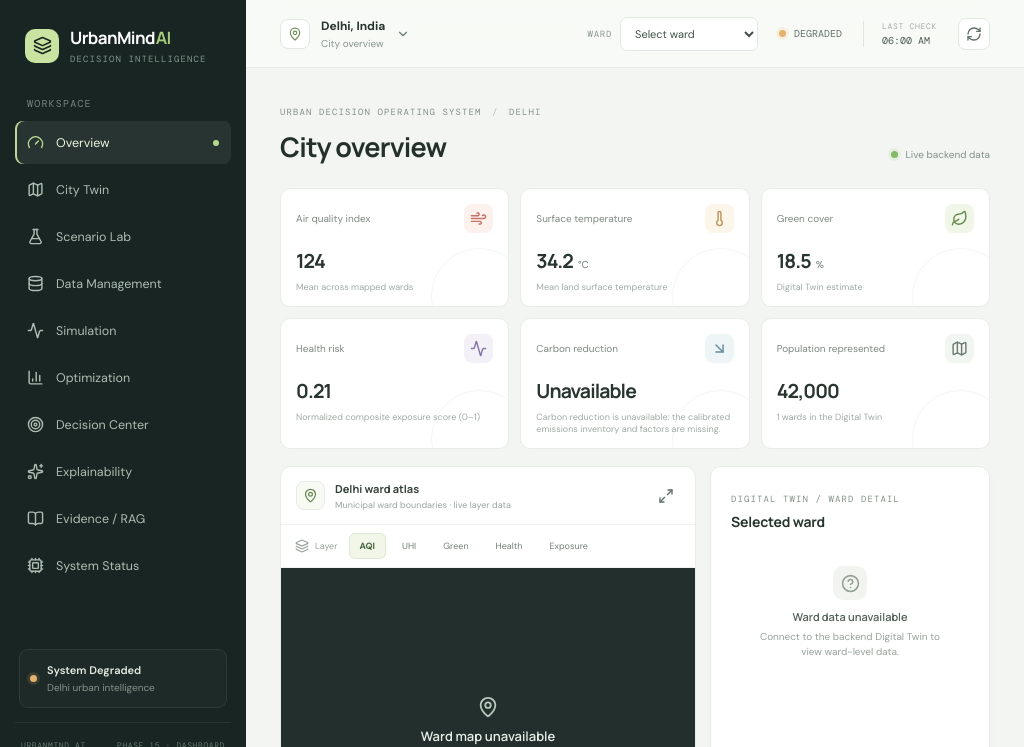
Scenario: UrbanMind dashboard › renders supplied zero AQI, temperature, and cost estimates as valid values
Click the link "Scenario Lab".
click(79, 236)  # box [27,228,131,245]
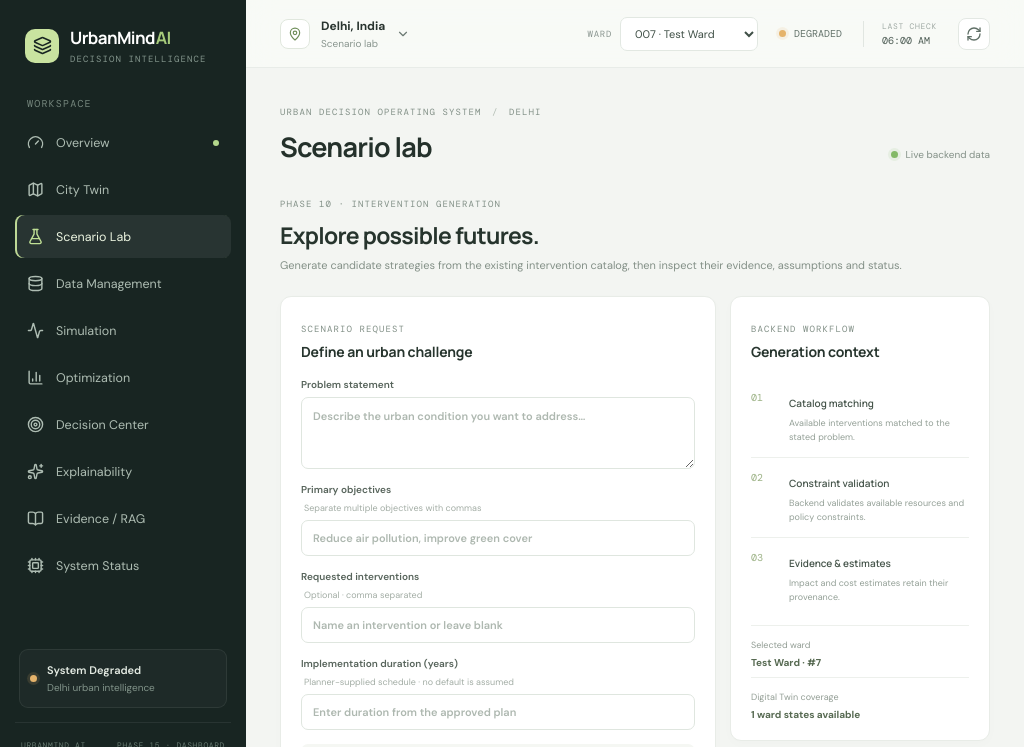
Type "Reduce heat exposure" into the text box labelled "Problem statement".
click(498, 433); type("Reduce heat exposure")  # box [301,397,695,469]
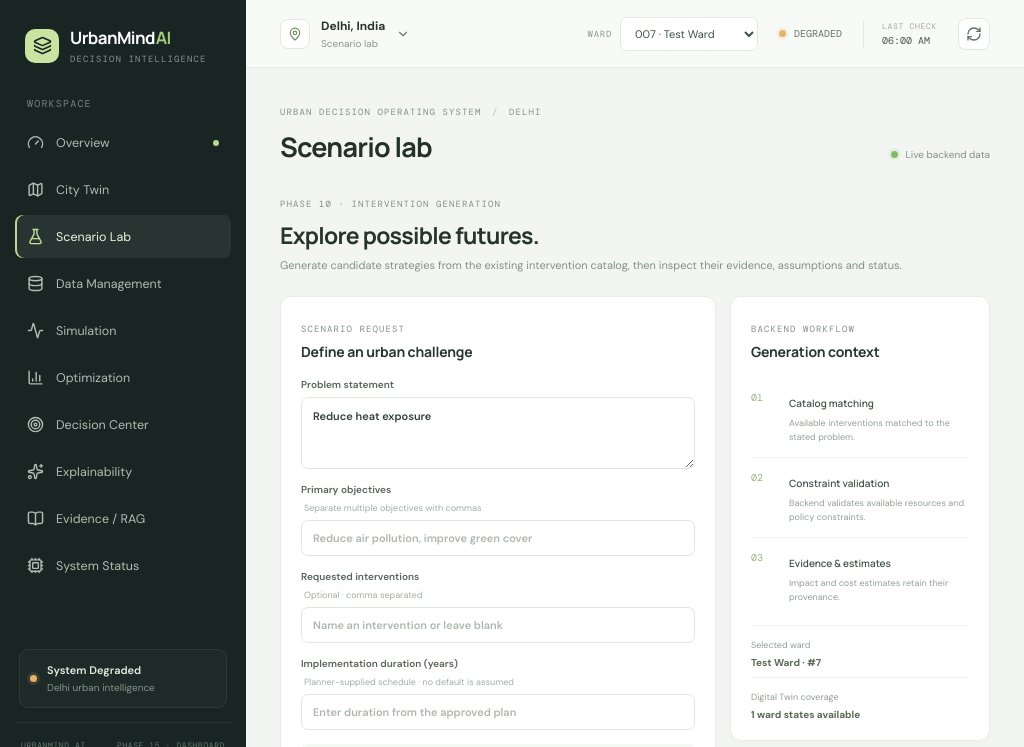
Type "2" into the number field labelled "Implementation duration (years)".
click(498, 712); type("2")  # box [301,694,695,730]
(page scrolled)
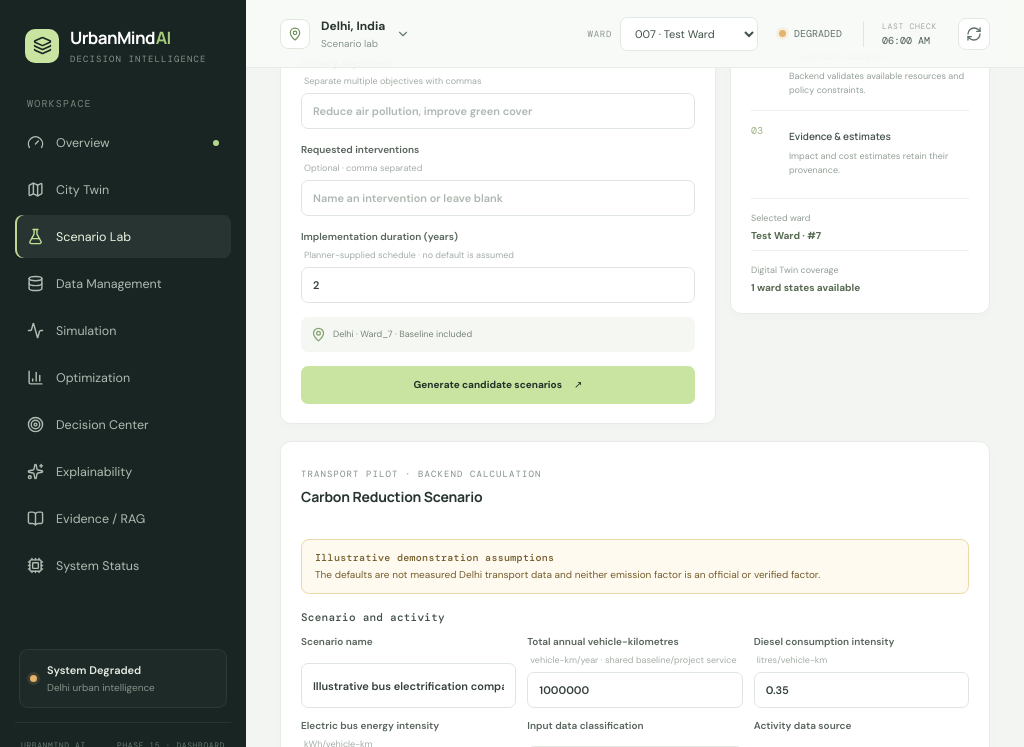
Click the button "Generate candidate scenarios ↗".
click(498, 385)  # box [301,366,695,404]
(page scrolled)
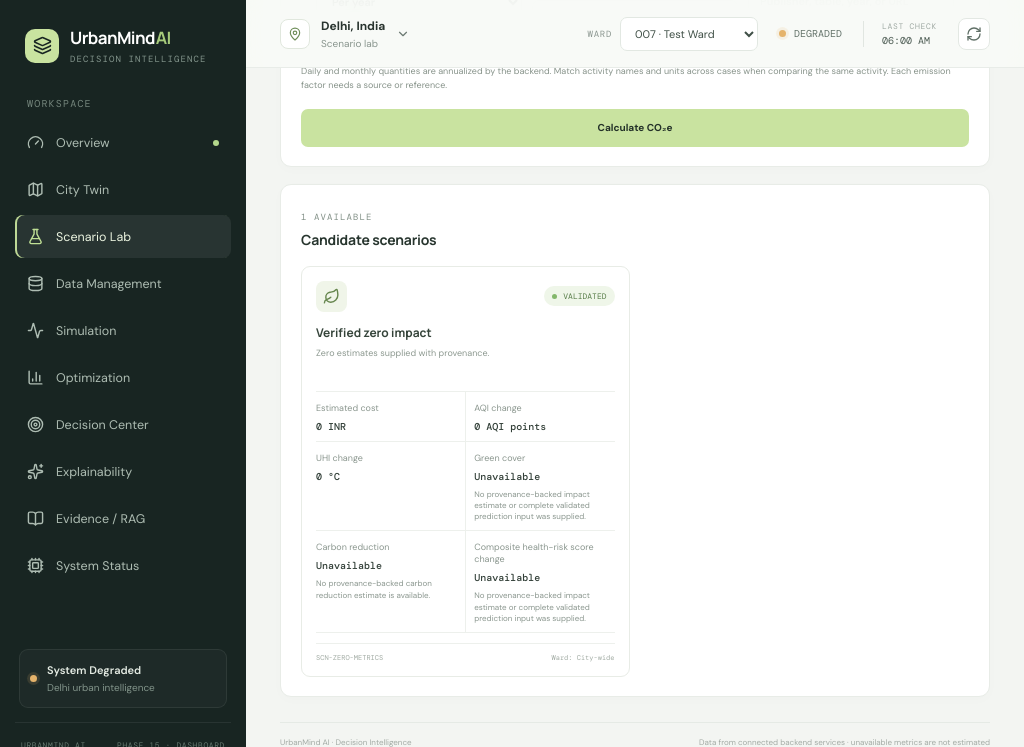
Check: the text "0 INR" is shown, box [316,420,346,433]
Check: the text "0 AQI points" is shown, box [474,420,546,433]
Check: the text "0 °C" is shown, box [316,470,340,483]
